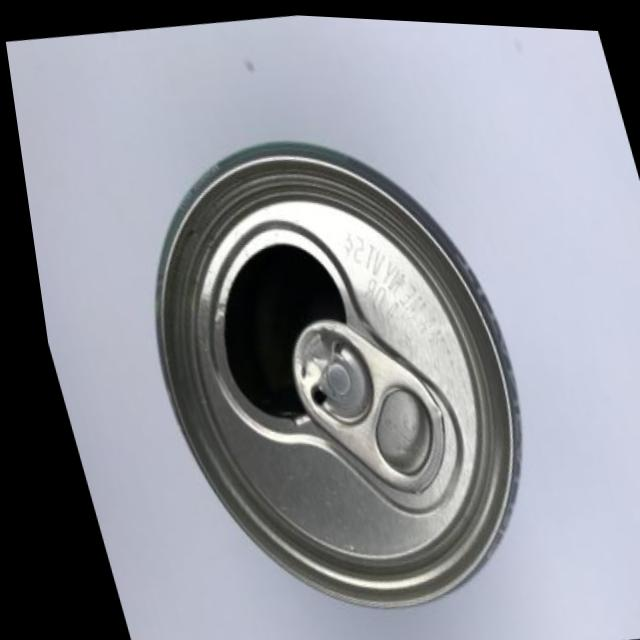metal: (76, 82, 582, 640)
